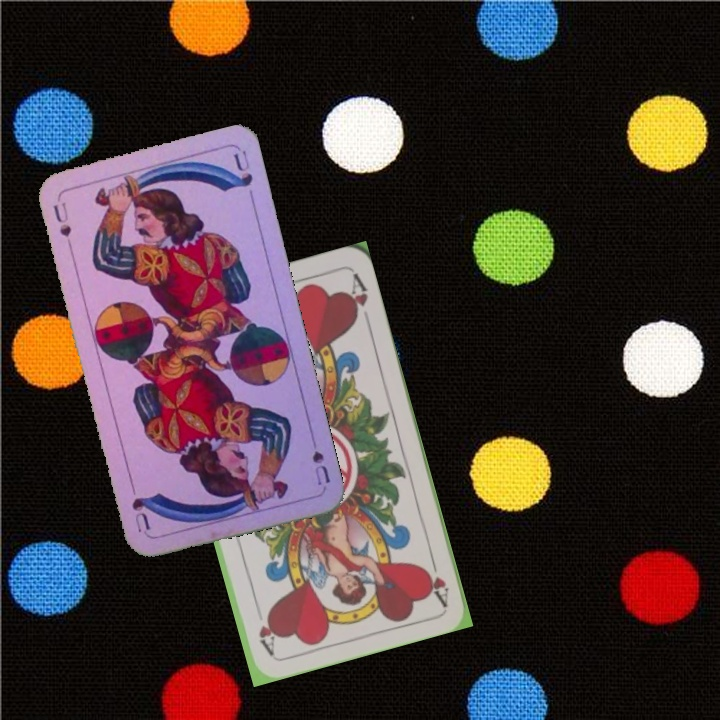HA: (420, 549, 452, 607)
SU: (308, 446, 333, 488), (49, 198, 74, 240)
